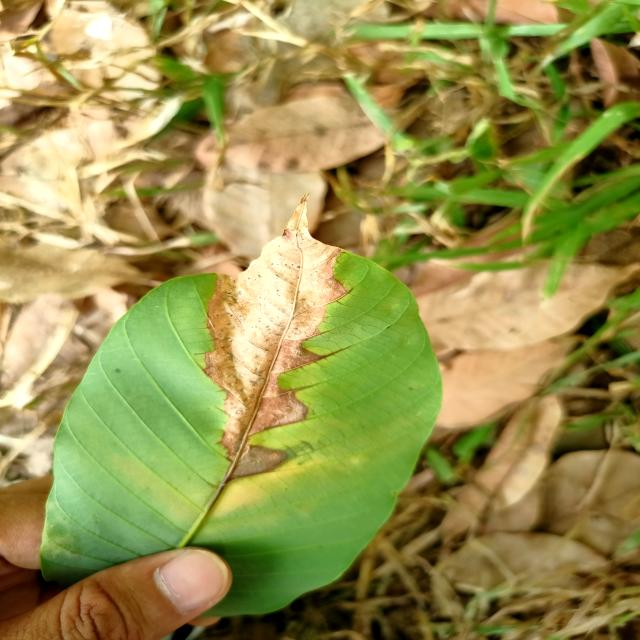Corynespora: (292, 346, 350, 370)
Leaf-Blight: (203, 192, 344, 480)
